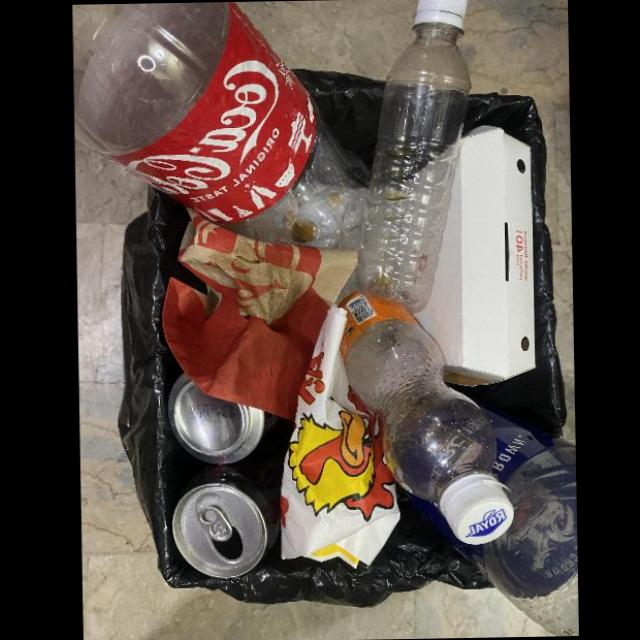carton: (403, 124, 535, 385)
chai_nhua_pet: (72, 1, 373, 250), (323, 281, 513, 544), (355, 0, 471, 306), (472, 412, 578, 636)
giay: (162, 207, 357, 419), (279, 302, 398, 568)
nhom: (172, 458, 285, 577), (167, 372, 286, 463)
